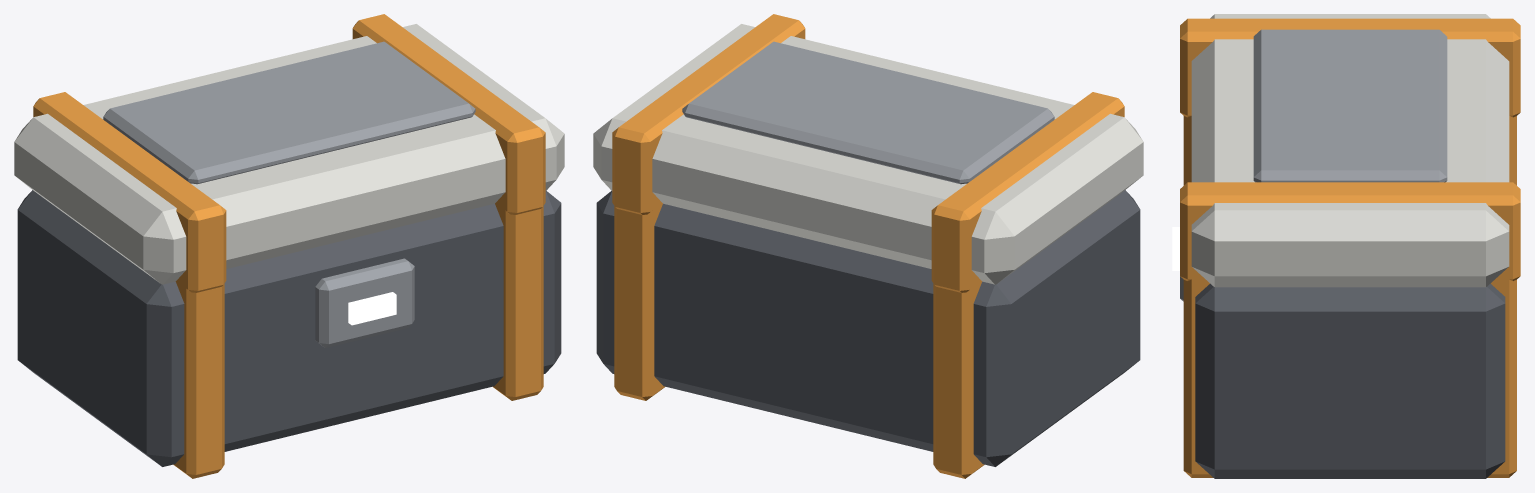
Rendered from cache.glb.
The picture shows the model from 3 angles, left to right: view 1: azimuth 30°, elevation 25°; view 2: azimuth 150°, elevation 25°; view 3: azimuth 270°, elevation 25°; orthographic projection. The views are drawn at different scales.
Visible parts, largest first — view 1: cache, lid; view 2: cache, lid; view 3: lid, cache.
Boxes of the visible parts, x1,y1,x2,y2 form: cache: (17,190,561,478); lid: (14,14,564,292); cache: (596,190,1140,478); lid: (593,14,1143,292); lid: (1180,14,1520,287); cache: (1172,116,1516,478).
Size of the model in its own units: 1.32 by 0.825 by 0.9.
